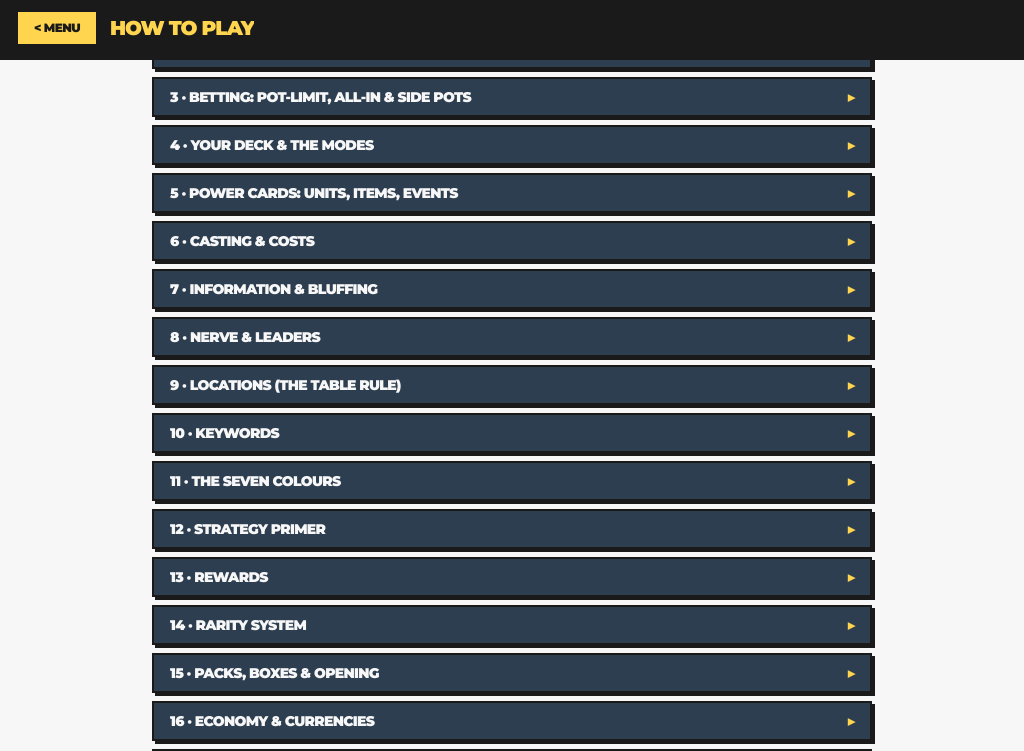
Test: HowToPlay teaches FryCards Poker › every Location rule and the Plain Table are listed
(page scrolled)
Click the button "9 · Locations (the Table Rule) ▸".
click(285, 385)  # box [154,367,870,403]
(page scrolled)
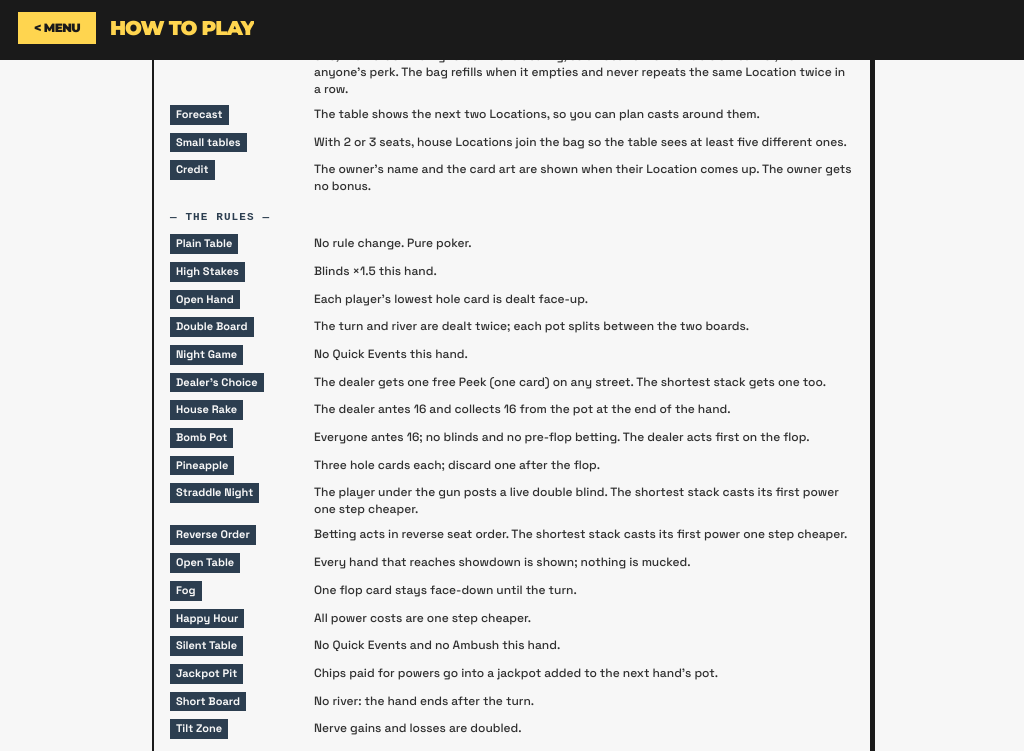
Result: the element that starts with "The bag" shows "Plain Table" at [176,236,232,250]
